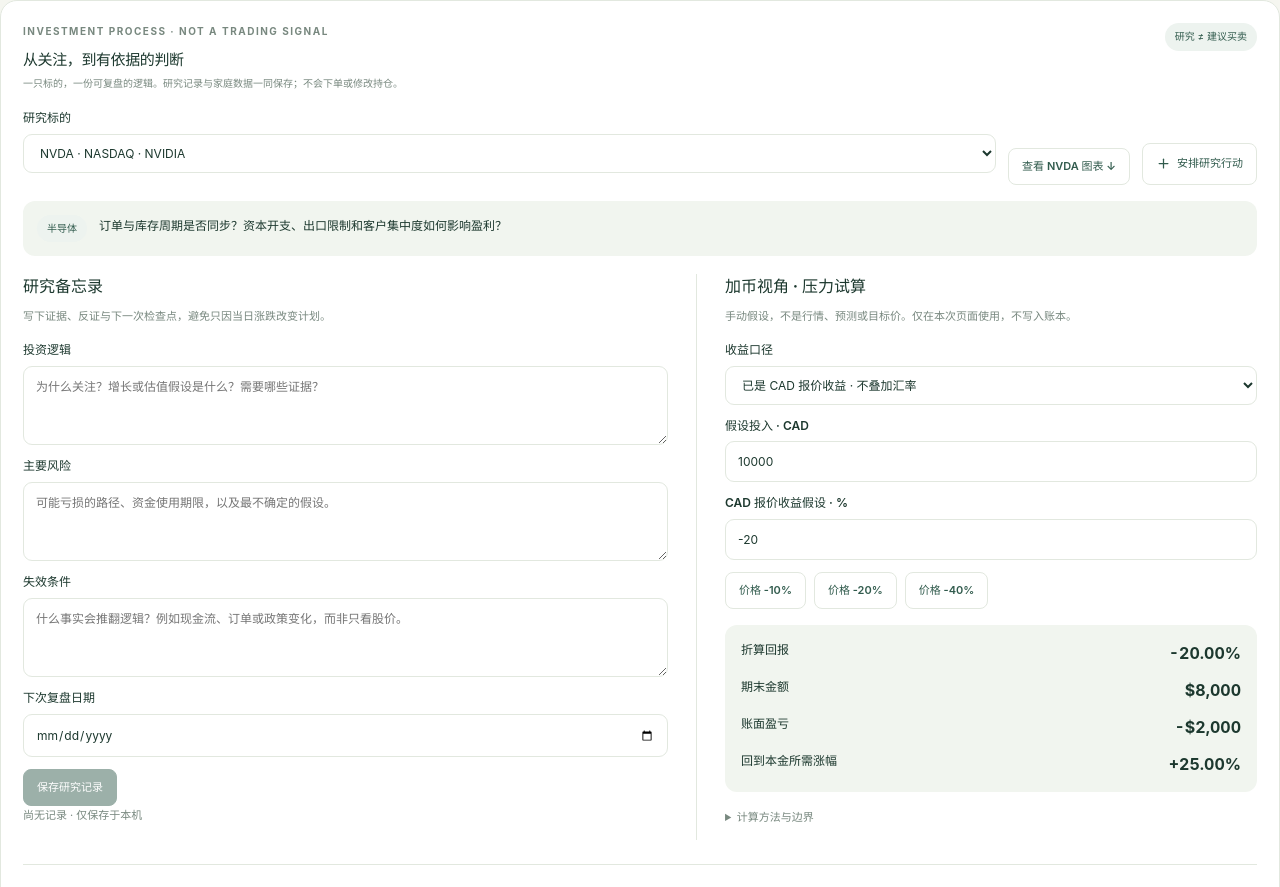
Test: 加币收益不重复叠加外汇；空输入不变成零；可以模拟归零
Check: the element named "压力试算结果" shows "-", box [1174,717,1241,737]
Check: the element named "压力试算结果" shows "25.00%", box [1169,754,1241,774]
Select "外币报价收益 · 折算回 CAD" in the dropdown named "压力试算收益口径": {"x": 991, "y": 385} [725,366,1257,404]
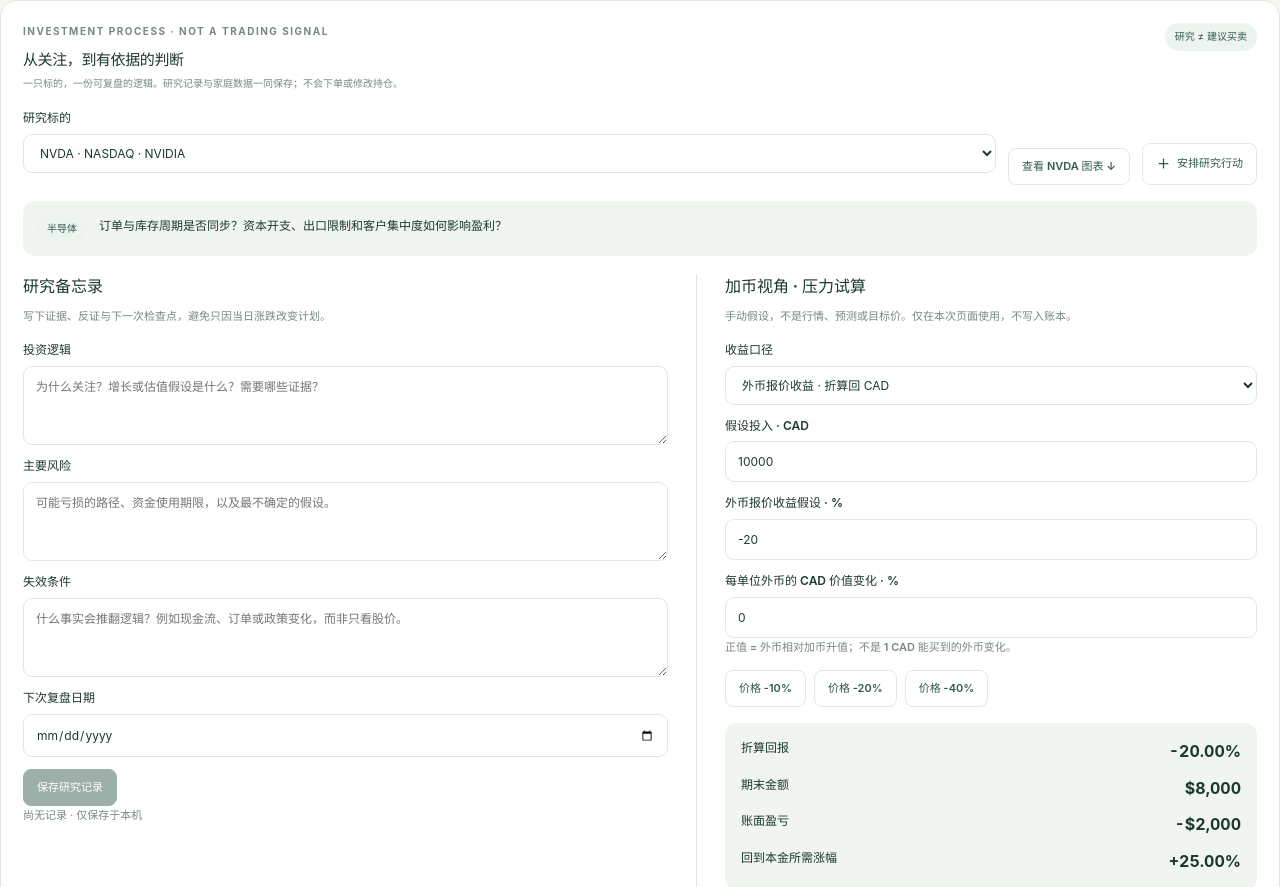
Replace the text in the number field named "汇率变化假设" with "10": {"x": 991, "y": 617} [725,597,1257,638]
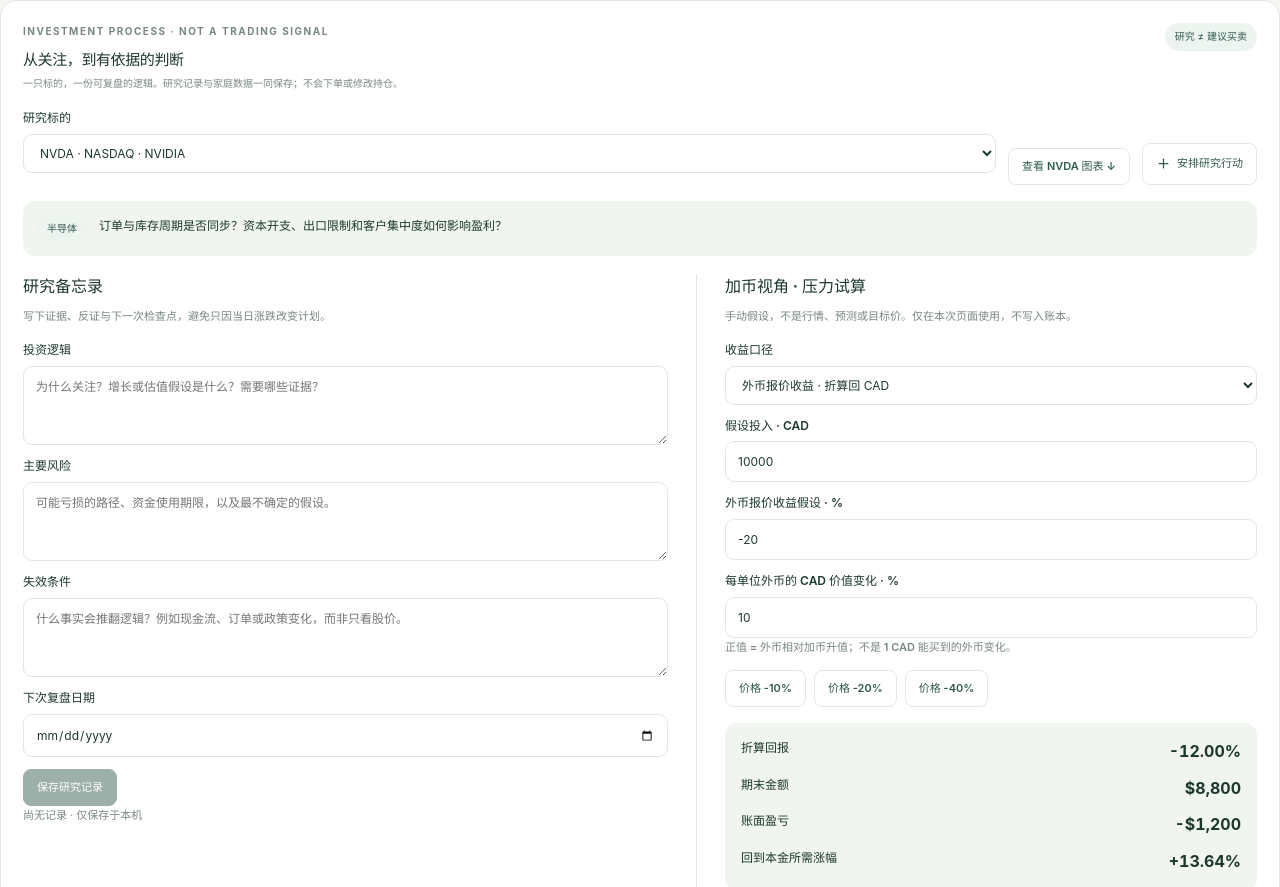
Check: the element named "压力试算结果" shows "-12.00%", box [1169,741,1241,761]
Select "已是 CAD 报价收益 · 不叠加汇率" in the dropdown named "压力试算收益口径": {"x": 991, "y": 385} [725,366,1257,404]
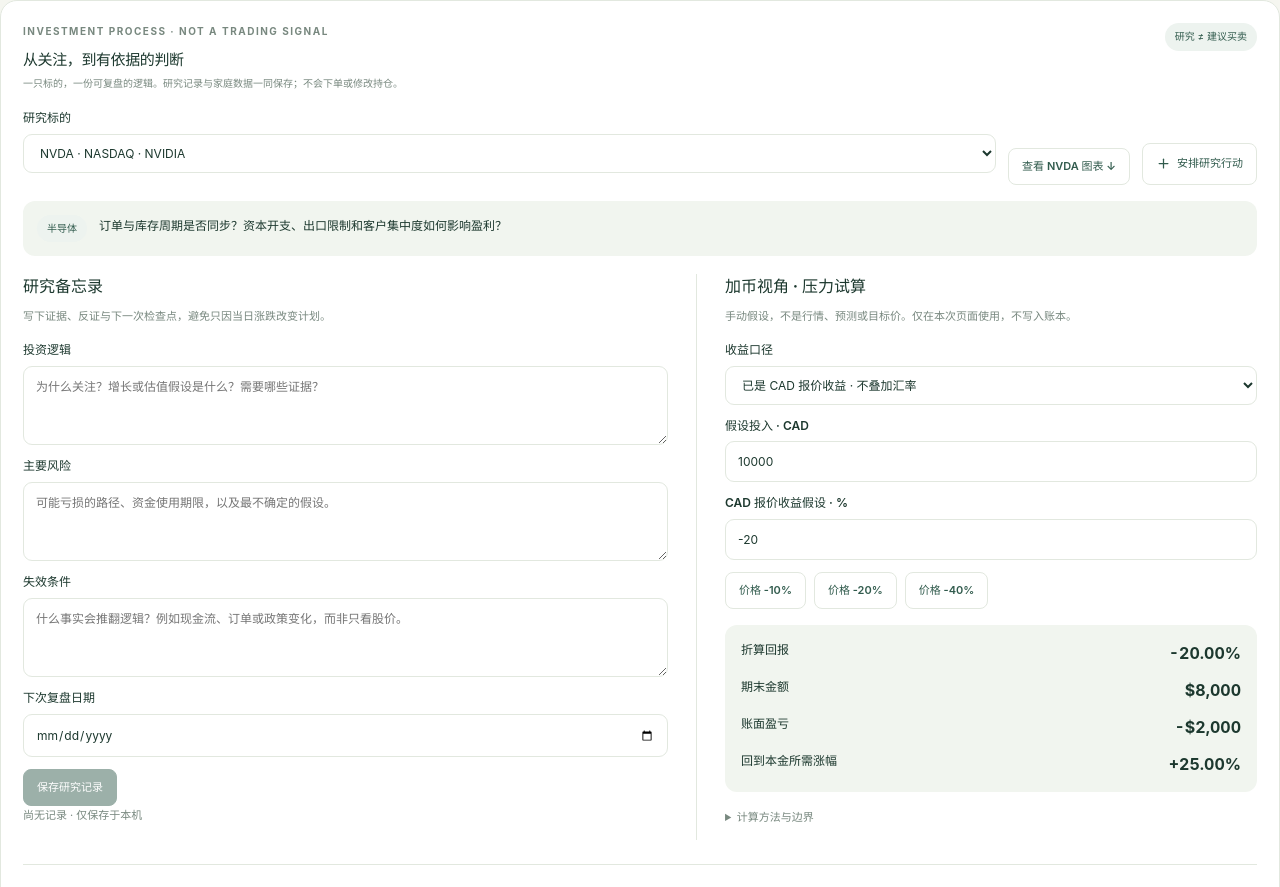
Check: the element named "压力试算结果" shows "-20.00%", box [1169,643,1241,663]
Clear the number field named "压力试算投入": {"x": 991, "y": 462} [725,441,1257,482]
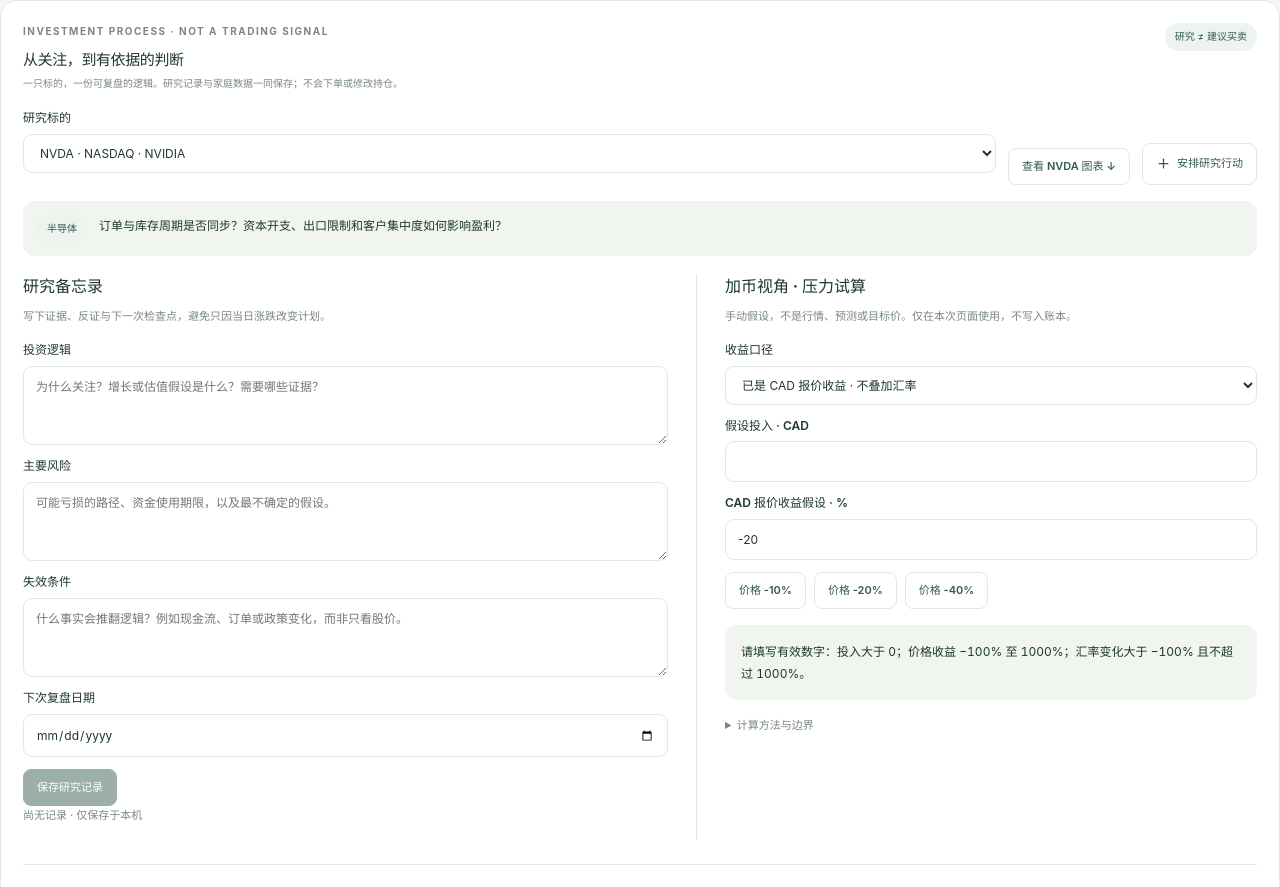
Check: the element named "压力试算结果" shows "有效数字", box [741,644,1233,681]
In the number field named "压力试算投入": {"x": 991, "y": 462} [725,441,1257,482], type "100"
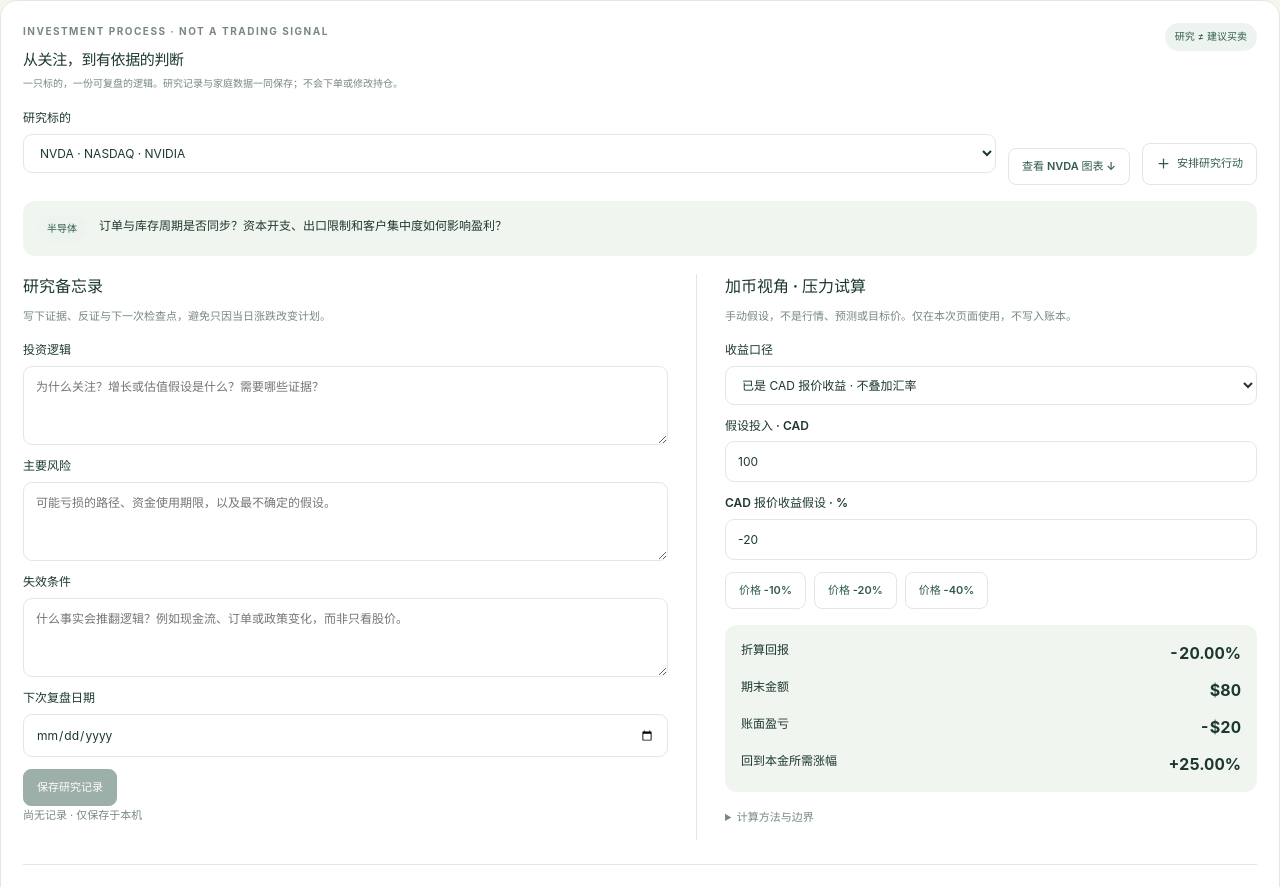
Replace the text in the number field named "价格收益假设" with "-100": {"x": 991, "y": 540} [725,519,1257,560]
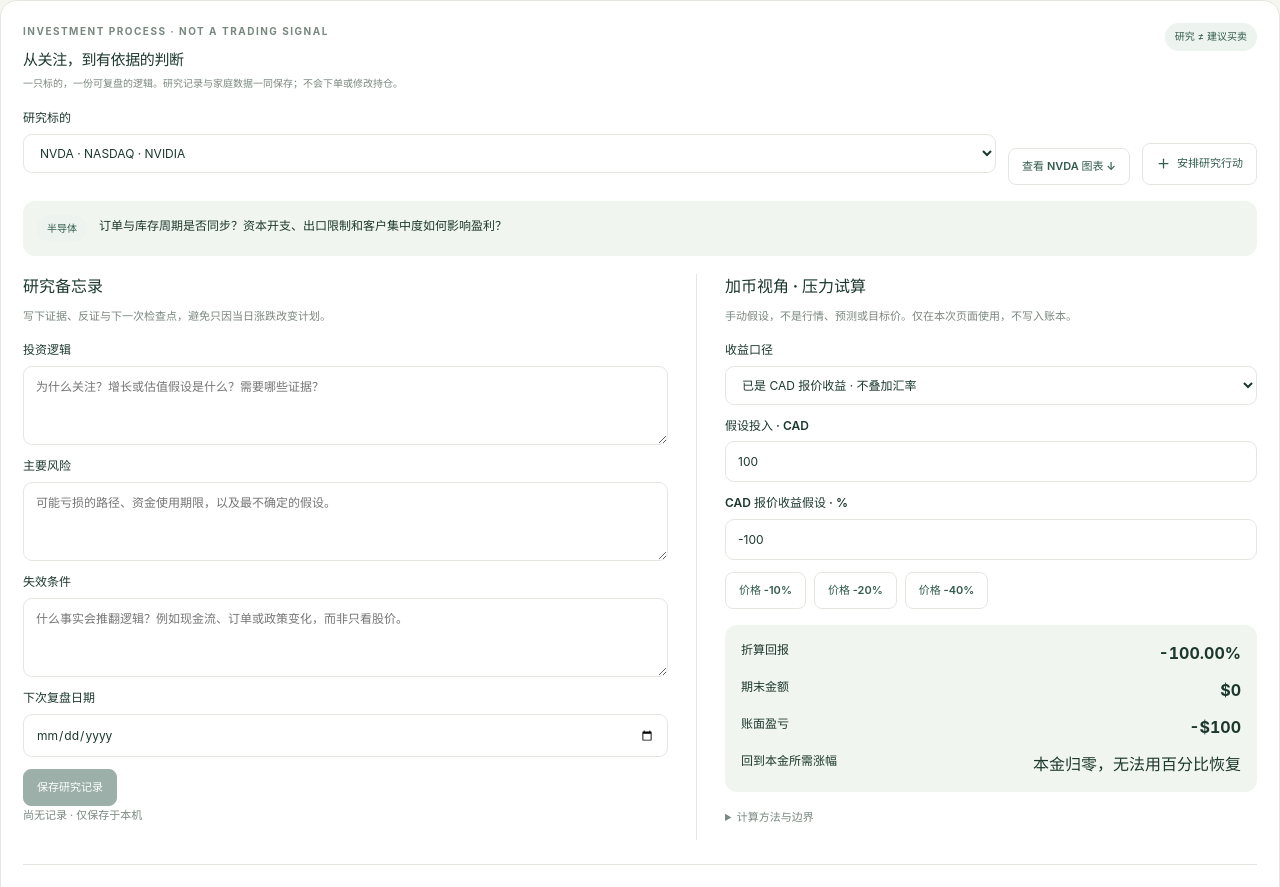
Check: the element named "压力试算结果" shows "本金归零", box [1033,754,1241,774]
